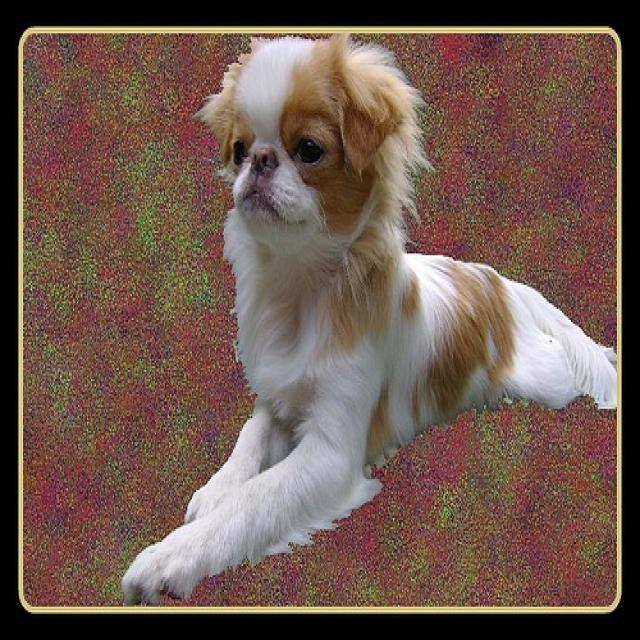dog-japanese_chin: (113, 28, 626, 614)
